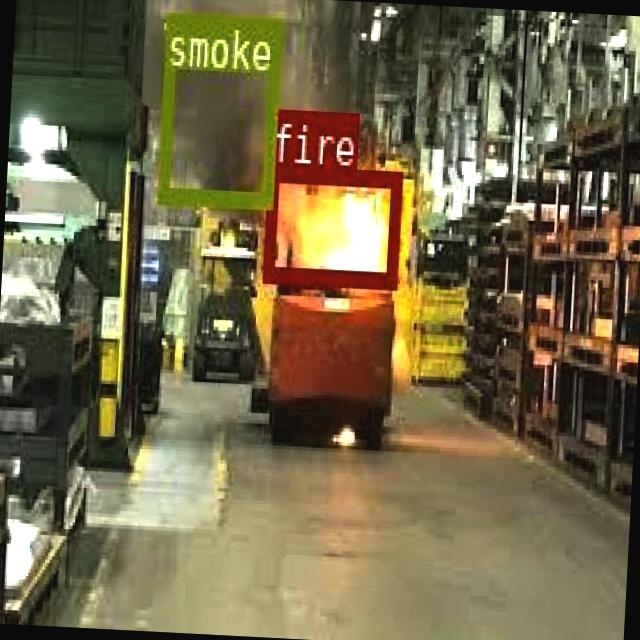fire: (262, 162, 401, 286)
smoke: (155, 9, 280, 206)
